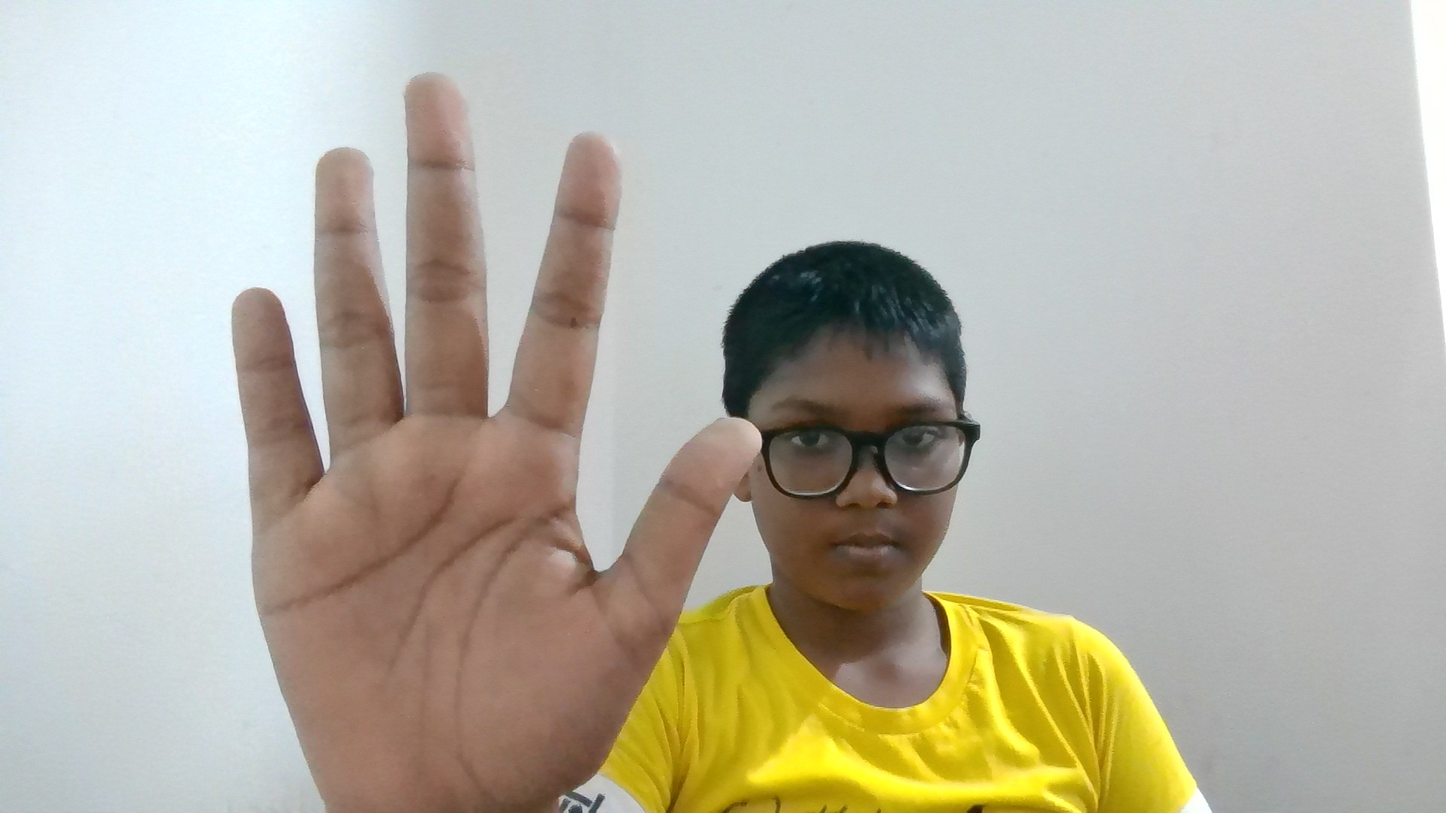Hello: (166, 76, 765, 767)
